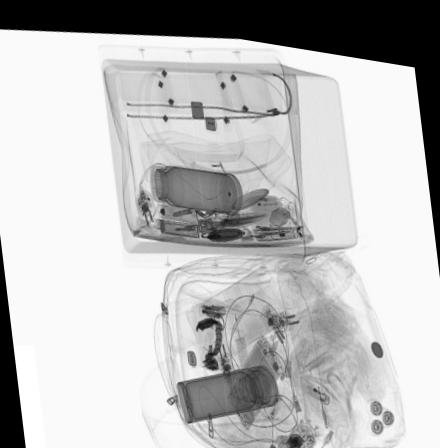Lighter: (302, 368, 330, 397)
